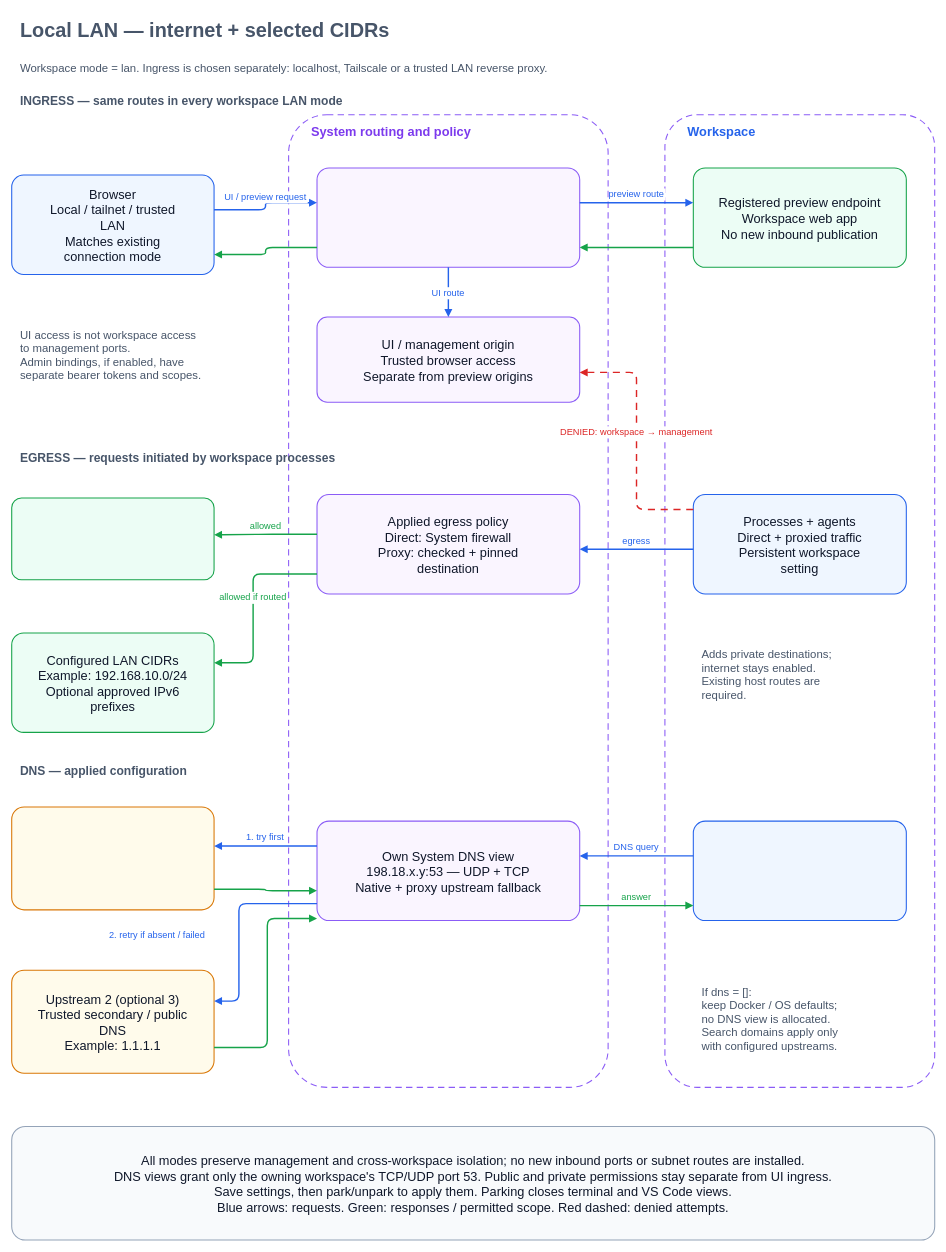
The diagram is 946 pixels wide and 1252 high, and some of its shapes have lost their labels. The shapes that lost their labels are listed below. From the top down, each one's box as (x1, y1, x2, y2) in pixels, then its label:
(316, 167, 580, 268): Existing ingress Host loopback / Tailscale Serve or LAN reverse proxy → :3081
(11, 497, 214, 580): Public internet Enabled in all three modes
(11, 806, 214, 910): Upstream 1 LAN DNS / external mDNS bridge Example: 192.168.10.53
(692, 820, 907, 921): Native DNS clients Egress proxy uses the same applied DNS configuration
